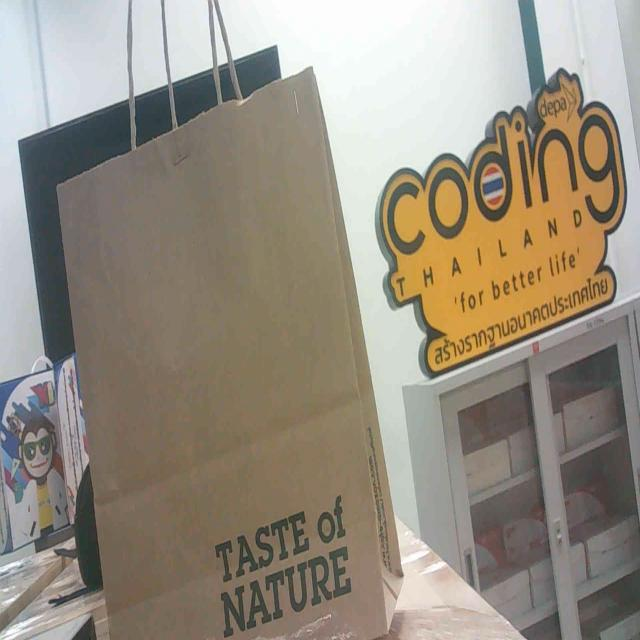bag: (36, 28, 410, 640)
